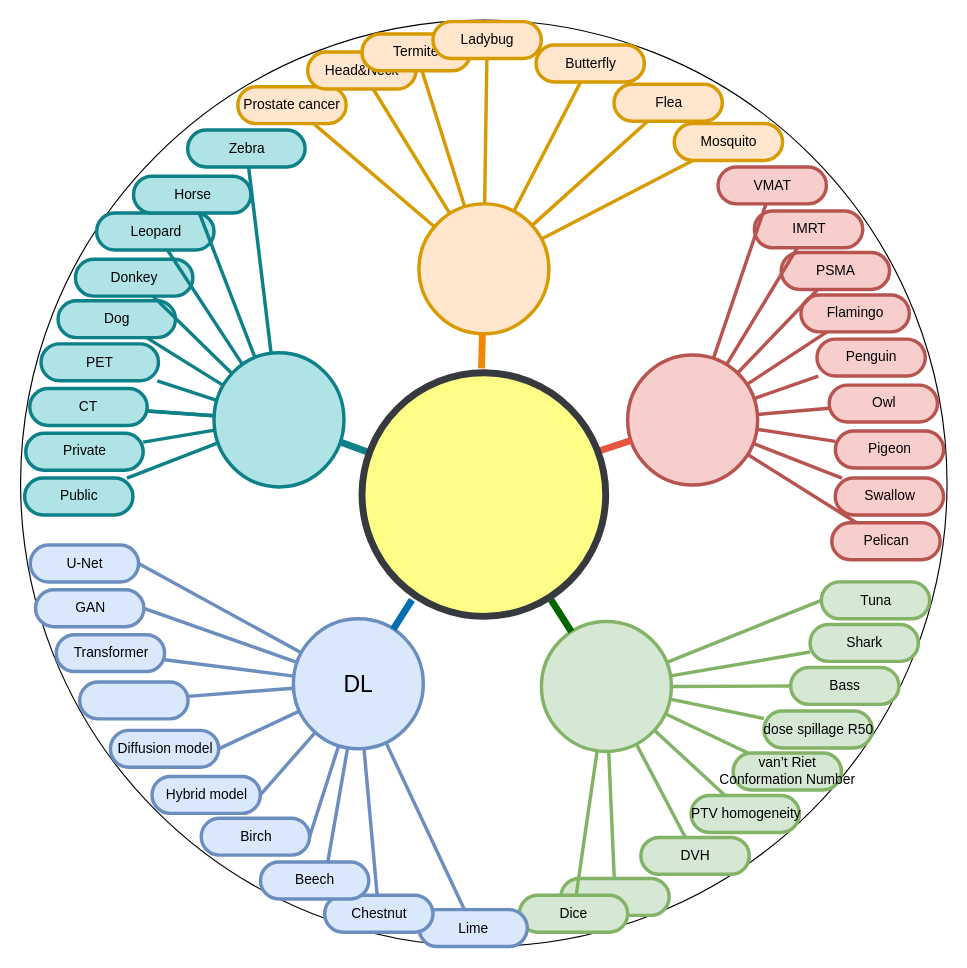
This 967x968 diagram has some shape labels left out. The box of each missing label's shape, as (x1, y1, x2, y2) in pixels:
Data: (212, 350, 345, 488)
Diseases: (417, 202, 550, 335)
Dose prediction: (358, 369, 609, 619)
Evaluation: (539, 619, 673, 753)
MAPE: (559, 876, 670, 917)
Transfer learning: (77, 680, 189, 720)
Treatments: (625, 353, 759, 486)
